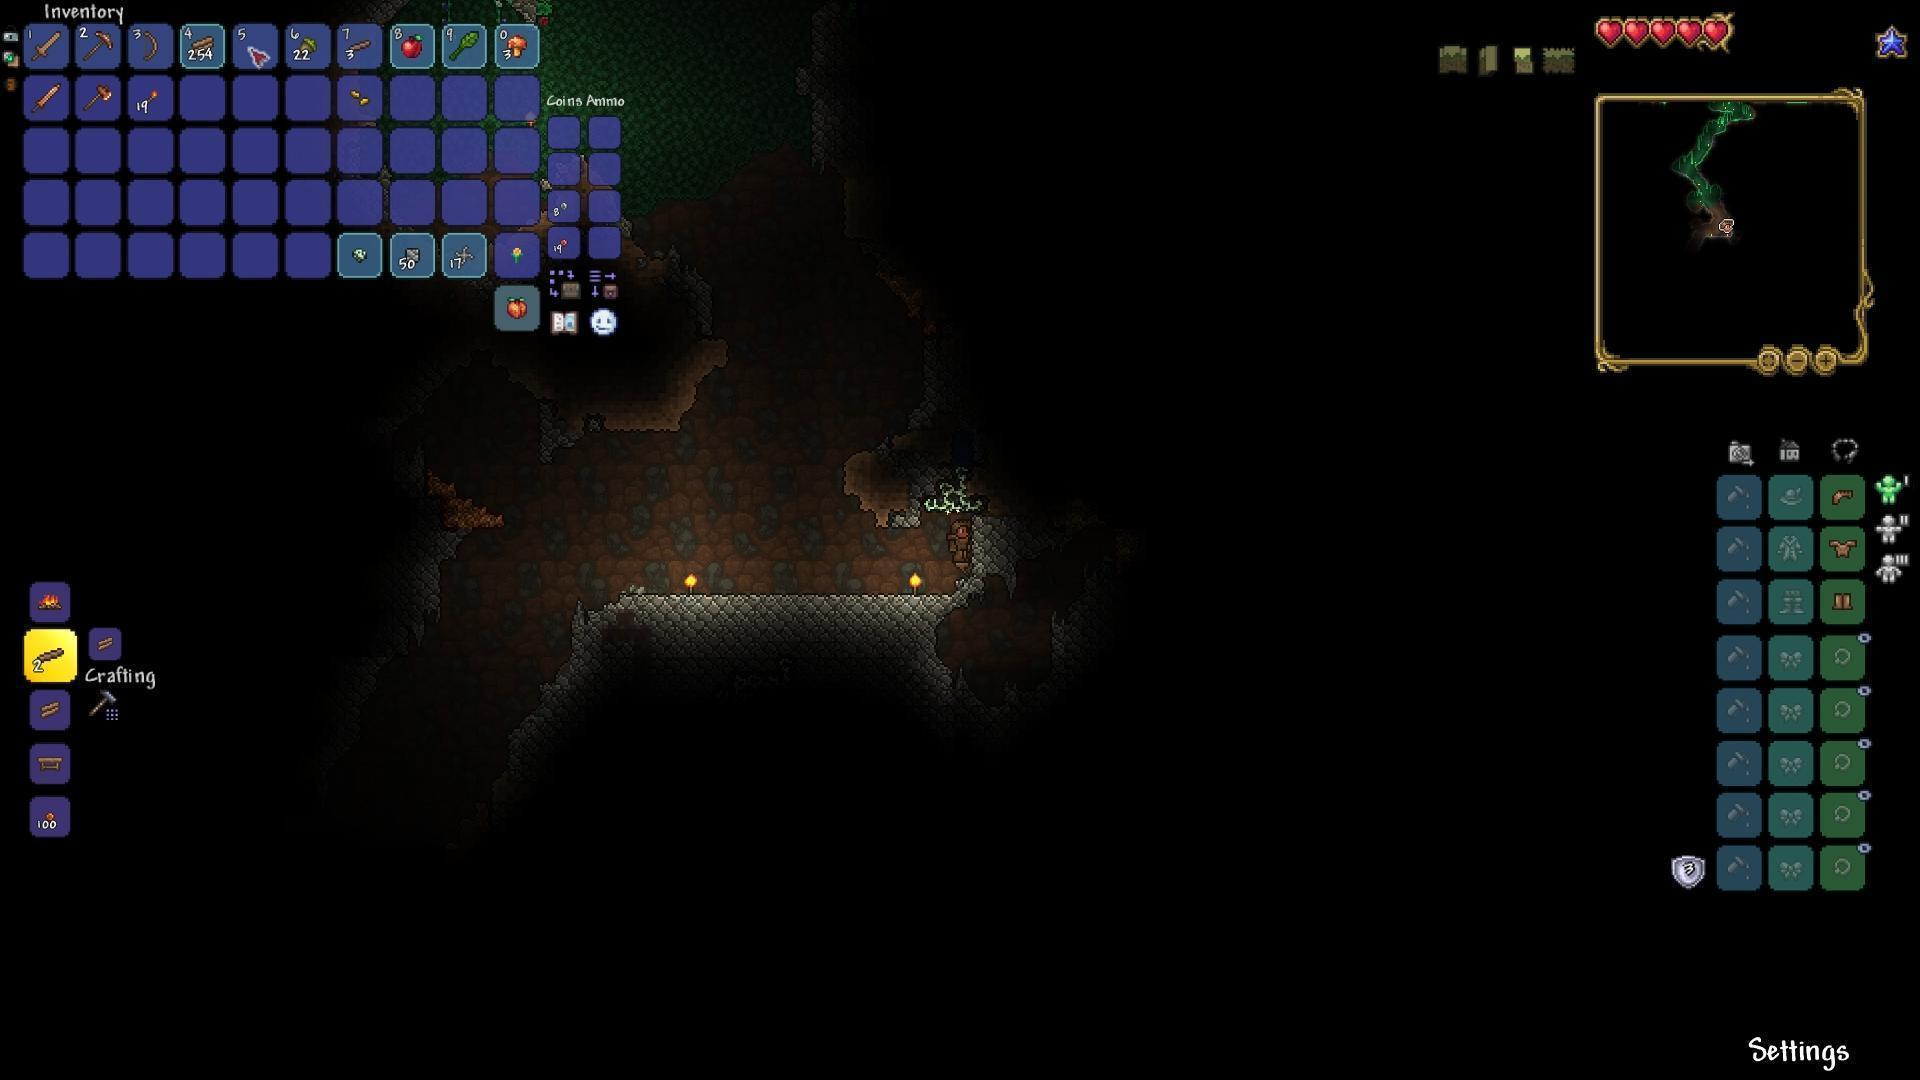axe: (80, 84, 113, 113)
bow: (141, 28, 158, 63)
breastplate: (1828, 538, 1857, 559)
heart: (1648, 17, 1677, 50), (1623, 16, 1651, 50), (1594, 17, 1625, 47), (1702, 17, 1727, 47), (1679, 18, 1702, 47)
pickaxe: (82, 28, 115, 63)
platform: (36, 642, 66, 665)
shuriken: (455, 244, 473, 265)
sword: (29, 82, 62, 113), (32, 29, 61, 61)
wood: (190, 36, 219, 57), (40, 699, 61, 719), (96, 636, 116, 650)
workbench: (37, 752, 63, 774)
